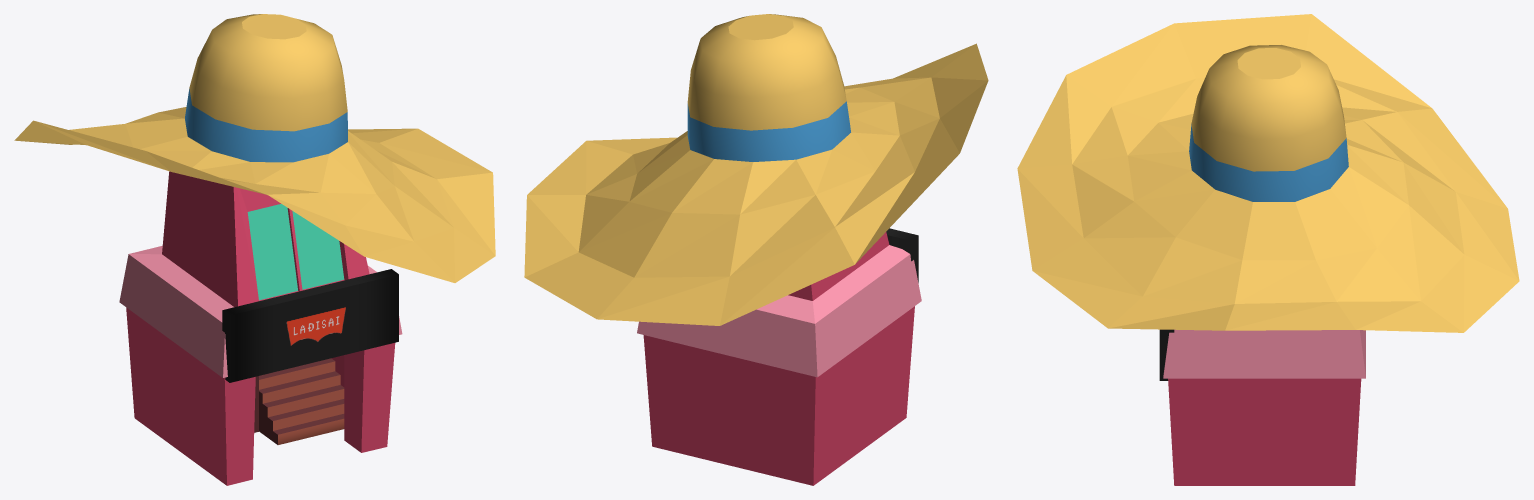
The model's file is Ladisai.fbx.
3 renders of one model, left to right at view 1: azimuth 30°, elevation 25°; view 2: azimuth 150°, elevation 25°; view 3: azimuth 270°, elevation 25°, orthographic. The views are drawn at different scales.
Visible parts, largest first — view 1: Ladisai; view 2: Ladisai; view 3: Ladisai.
Part boxes in pixels (<box>): Ladisai: <box>14,14,495,485</box>; Ladisai: <box>524,14,988,485</box>; Ladisai: <box>1017,14,1519,485</box>.
Size of the model in its own units: 42.56 by 39.43 by 45.54.
Materials: 1 (1 with a texture image).
